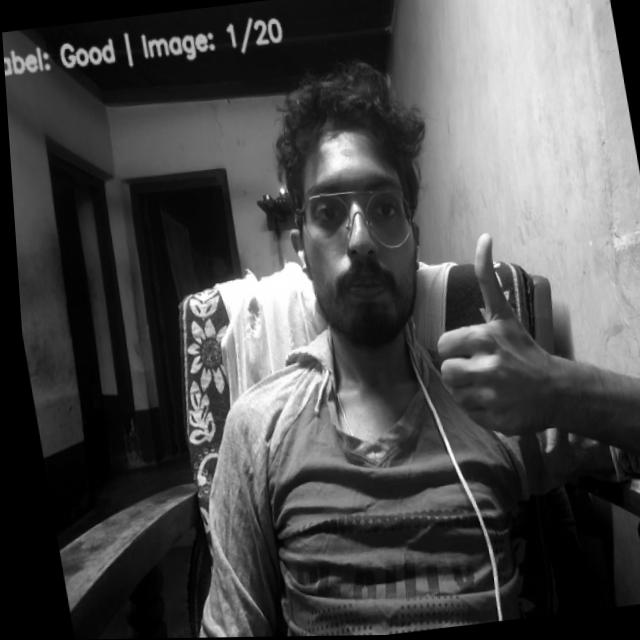Good: (409, 227, 563, 453)
